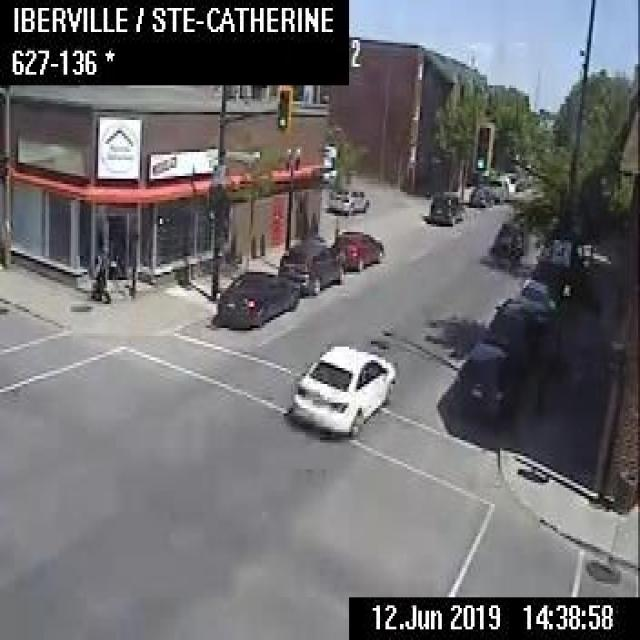pedestrian: (89, 240, 111, 304)
vehicle: (287, 339, 395, 437), (211, 268, 298, 328), (449, 343, 515, 420), (278, 238, 344, 296), (486, 295, 537, 367), (535, 235, 579, 295), (519, 265, 563, 322), (330, 229, 382, 271), (490, 215, 528, 269), (428, 190, 464, 226), (326, 186, 368, 214), (470, 183, 492, 206), (487, 176, 507, 201), (500, 171, 521, 192)
